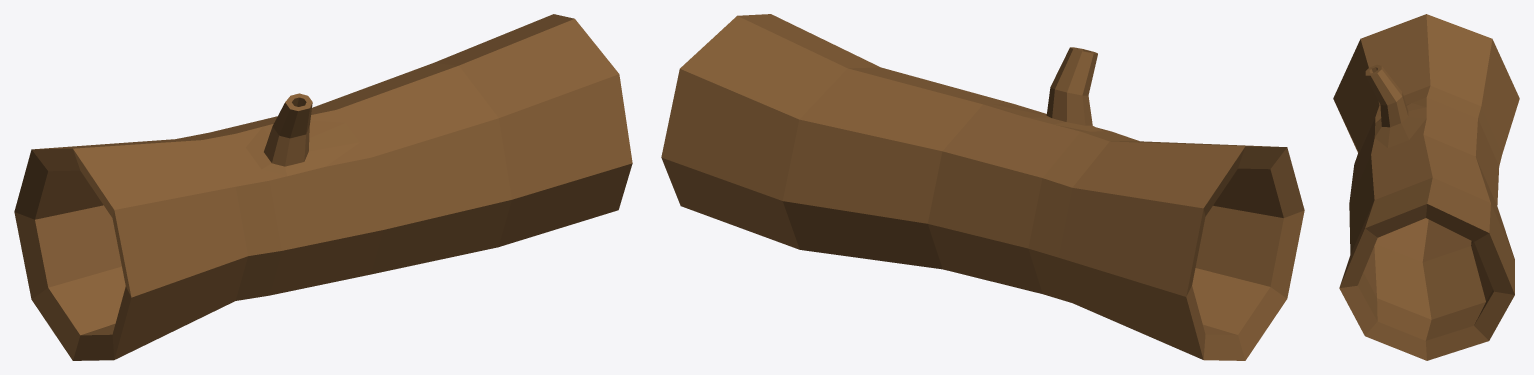
Rendered from Log.fbx.
3 renders of one model, left to right at view 1: azimuth 30°, elevation 25°; view 2: azimuth 150°, elevation 25°; view 3: azimuth 270°, elevation 25°, orthographic. The views are drawn at different scales.
Visible parts, largest first — view 1: Cylinder; view 2: Cylinder; view 3: Cylinder.
Boxes of the visible parts, bbox=[...] form: Cylinder: bbox=[14, 14, 632, 360]; Cylinder: bbox=[661, 14, 1304, 360]; Cylinder: bbox=[1333, 14, 1519, 360].
Bounding box in the file's own units: 604 × 265 × 235.
